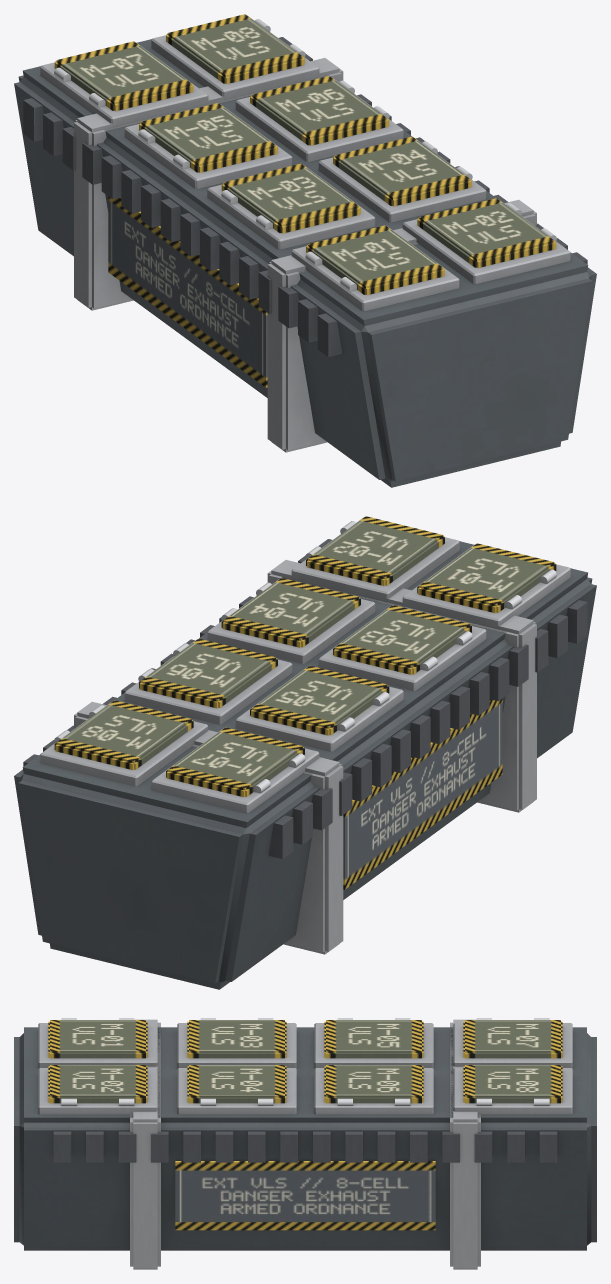
The model's file is att_vls_pod.glb.
3 views of the same model, one above another, from view 1: azimuth 30°, elevation 25°; view 2: azimuth 150°, elevation 25°; view 3: azimuth 270°, elevation 25° (orthographic). The views are drawn at different scales.
Visible parts, largest first — view 1: TEX_VLS_Pod_Mesh; view 2: TEX_VLS_Pod_Mesh; view 3: TEX_VLS_Pod_Mesh.
Part boxes in pixels (left/top/right/bottom): TEX_VLS_Pod_Mesh: left=14, top=14, right=596, bottom=487; TEX_VLS_Pod_Mesh: left=14, top=516, right=596, bottom=989; TEX_VLS_Pod_Mesh: left=14, top=1018, right=596, bottom=1269.
Size of the model in its own units: 1.12 by 0.918 by 2.64.
1 material, 1 textured.
